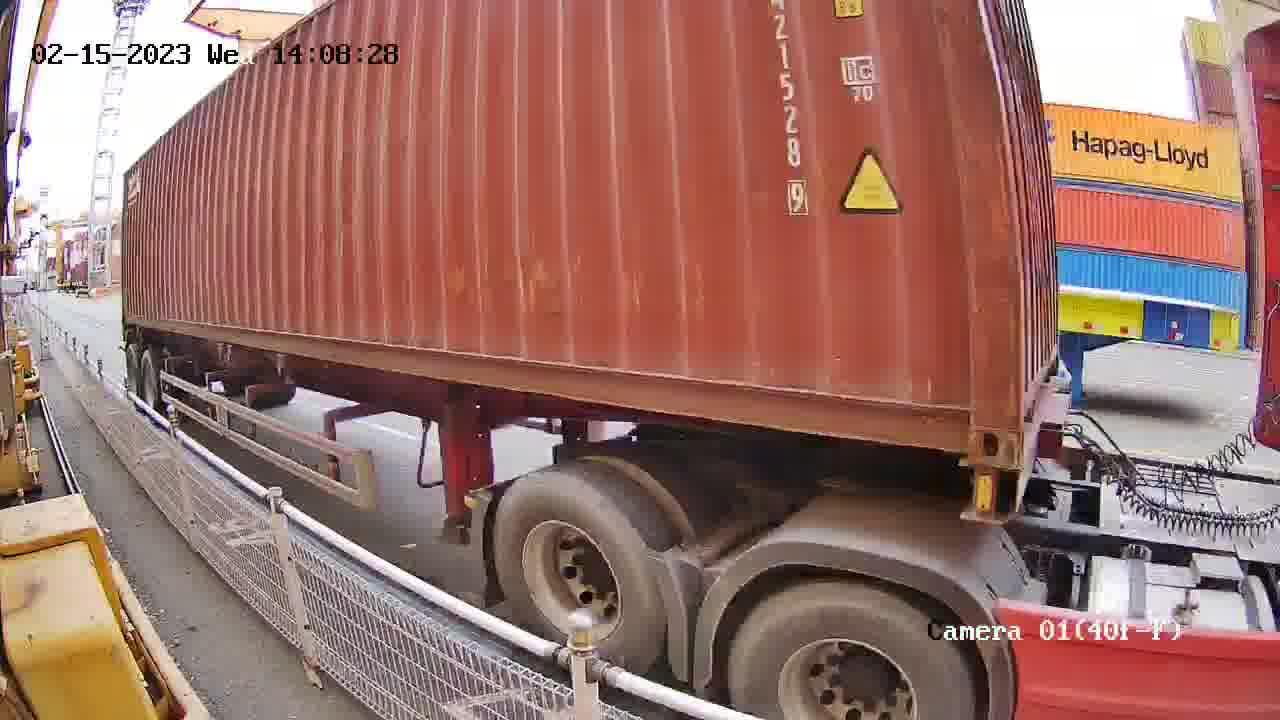Chassis: (1018, 373, 1070, 510)
Cone: (963, 465, 1021, 523)
Hole_R: (914, 359, 1023, 467)
Tire: (491, 472, 669, 669), (729, 580, 979, 719)
